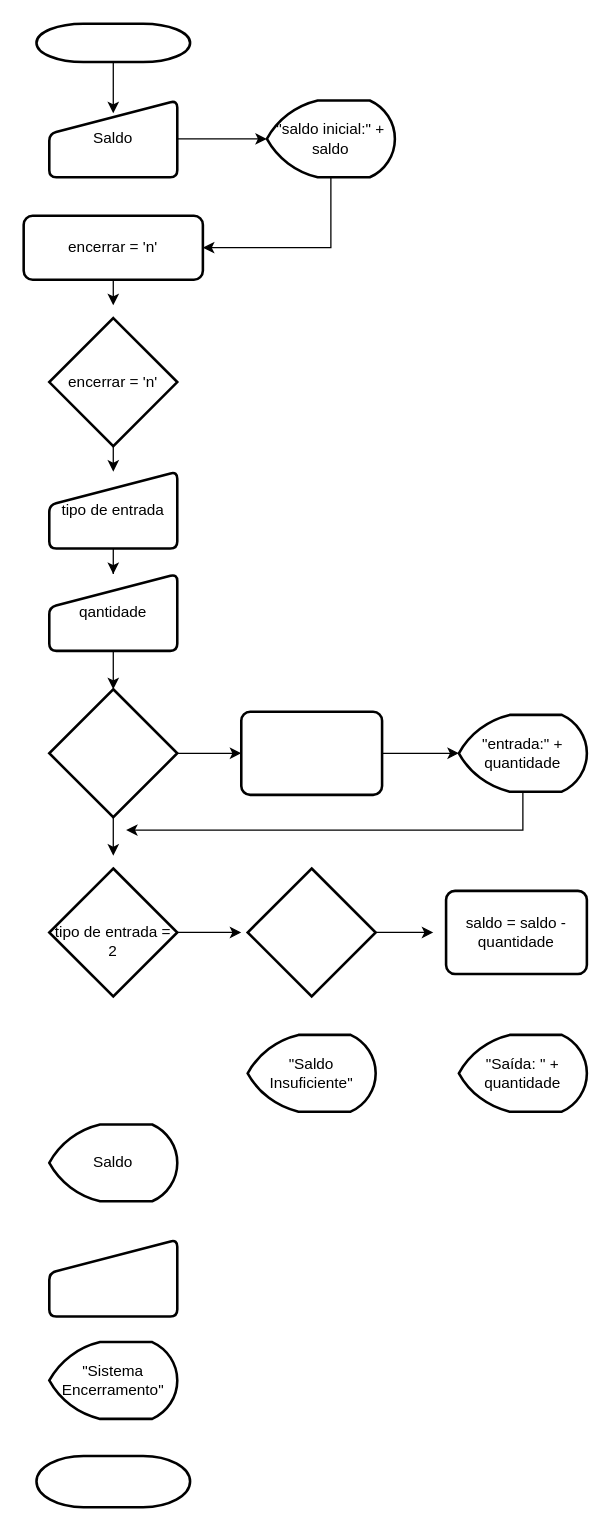
Some shapes in this 609 by 1530 pixel diagram are drawn without their labels. Here are the shapes that lost their labels. From the top down, the box of each, then its label:
(35, 22, 191, 63): Inicio
(47, 687, 178, 818): tipo de entrada = 1
(239, 710, 383, 796): saldo = saldo + quantidade
(246, 867, 376, 997): saldo >= quantidade
(47, 1238, 178, 1317): encerrar ? (s/n)
(35, 1454, 191, 1508): FIM
